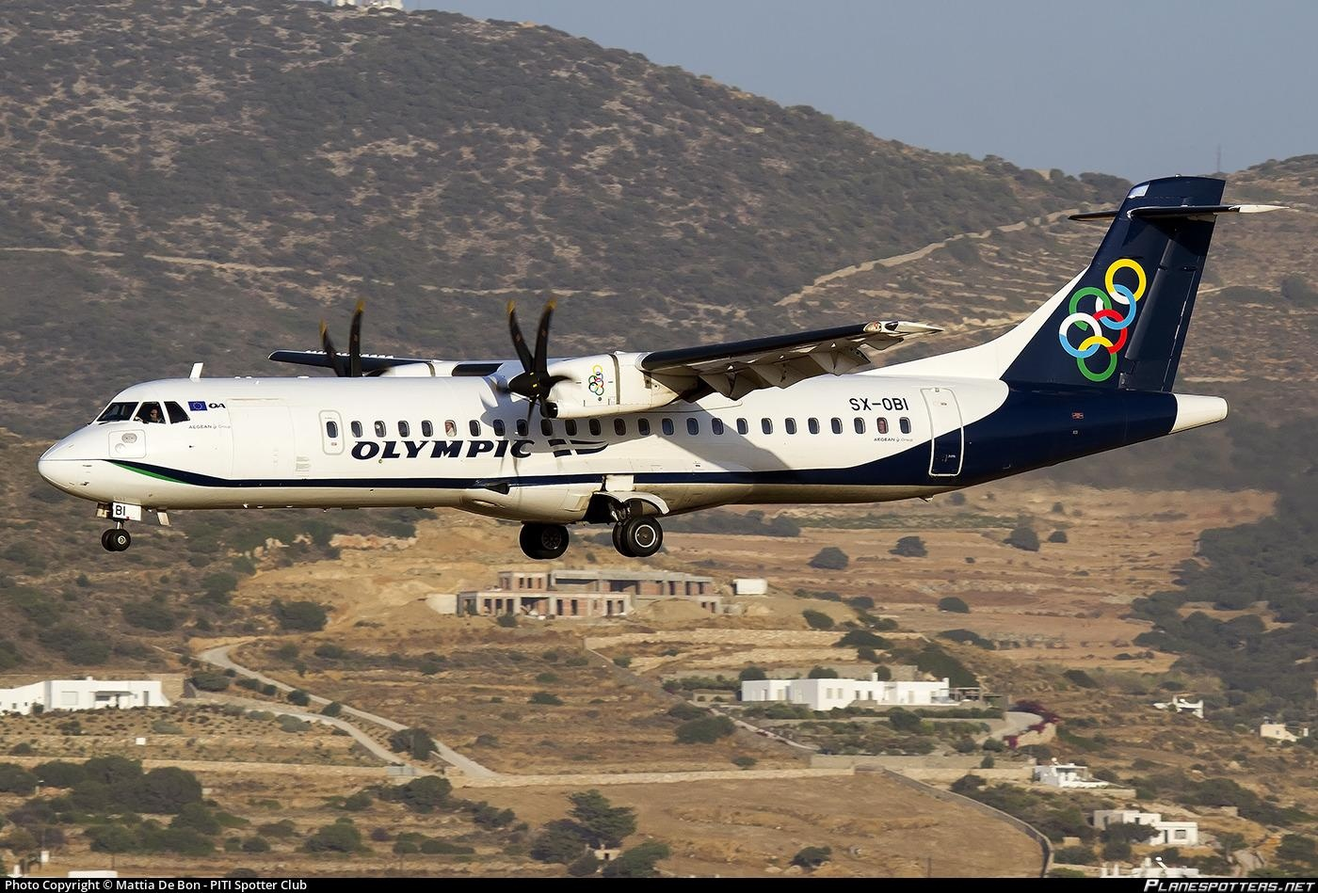aircraft: (32, 173, 1234, 564)
